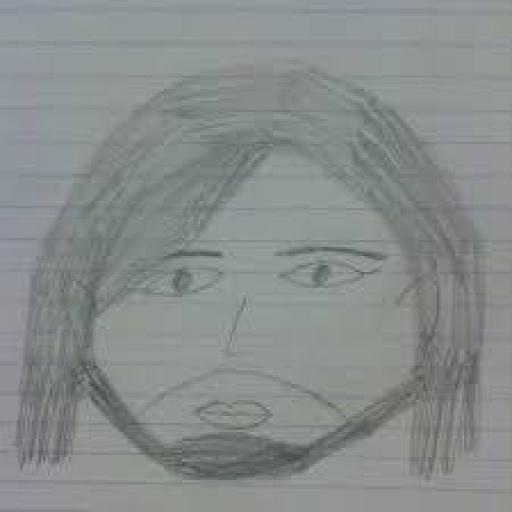person: (12, 57, 488, 482)
